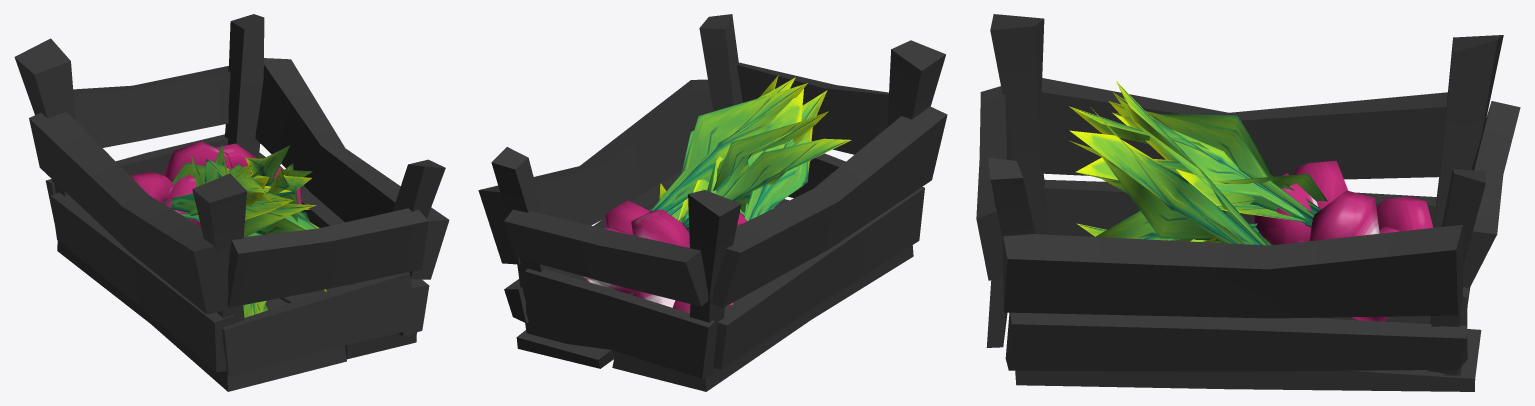
The model's file is SM_PROP_crate_04.FBX.
3 views of the same model, side by side, from view 1: azimuth 30°, elevation 25°; view 2: azimuth 150°, elevation 25°; view 3: azimuth 270°, elevation 25° (orthographic). The views are drawn at different scales.
Visible parts, largest first — view 1: SM_PROP_crate_04; view 2: SM_PROP_crate_04; view 3: SM_PROP_crate_04.
Boxes of the visible parts, bbox=[...] form: SM_PROP_crate_04: bbox=[14, 14, 449, 391]; SM_PROP_crate_04: bbox=[478, 14, 947, 391]; SM_PROP_crate_04: bbox=[976, 14, 1520, 391].
Bounding box in the file's own units: 64.5 × 89.13 × 46.19.
